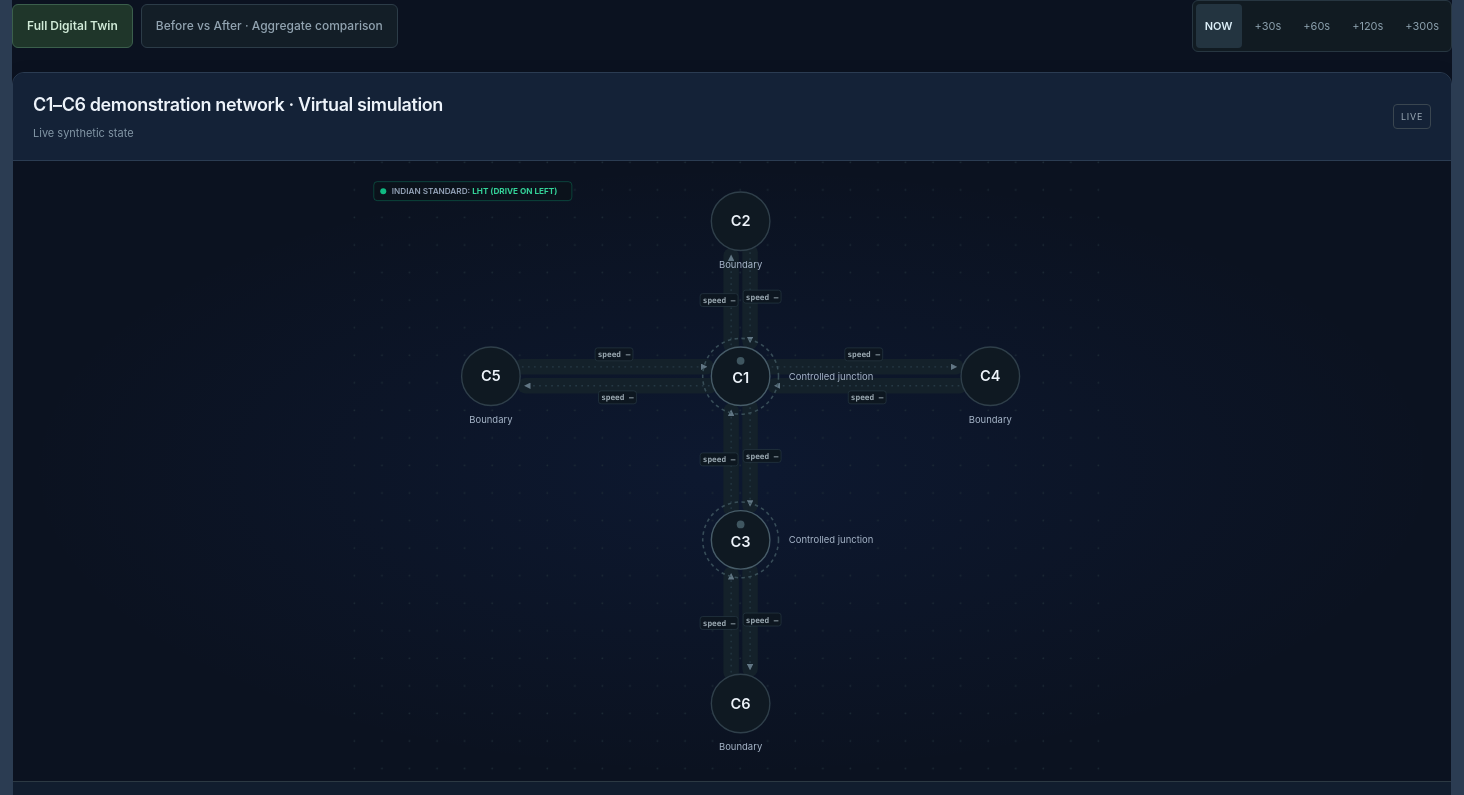
Epic 7: Before-vs-after Evidence (S21, S22) › S22: Synchronized comparison and impact › renders split-screen dual canvases with baseline and candidate columns
The width and height of the screenshot is (1464, 795).
Click the button "Before vs After · Aggregate comparison" at [269, 26], box [141,4,398,48]
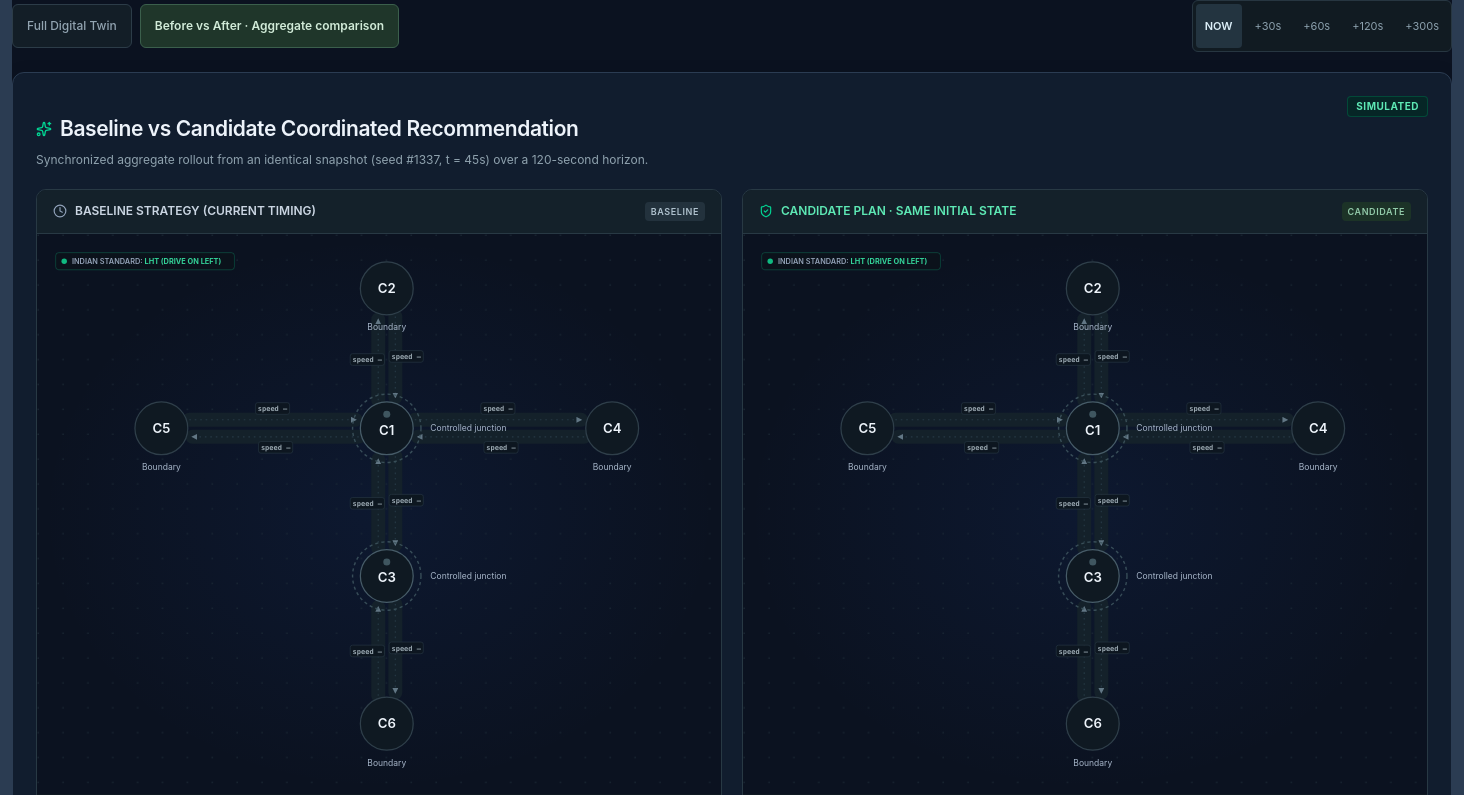
Expected: the text "BASELINE STRATEGY (CURRENT TIMING)" is shown, [53,203,316,219]
Expected: the text "CANDIDATE PLAN · SAME INITIAL STATE" is shown, [759,203,1016,219]
